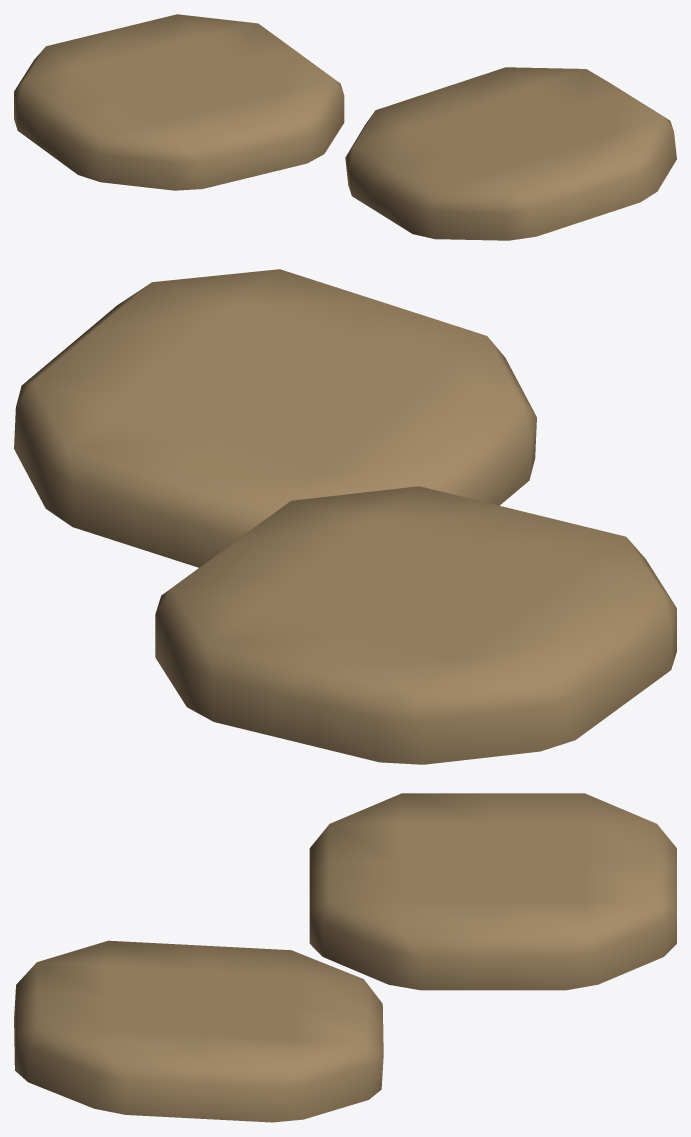
Rendered from tiles.glb.
3 renders of one model, top to bottom at view 1: azimuth 30°, elevation 25°; view 2: azimuth 150°, elevation 25°; view 3: azimuth 270°, elevation 25°, orthographic. The views are drawn at different scales.
Visible parts, largest first — view 1: Tiles, Tiles1; view 2: Tiles, Tiles1; view 3: Tiles, Tiles1.
Boxes of the visible parts, <box> form: Tiles: <box>14,14,344,190</box>; Tiles1: <box>345,67,676,240</box>; Tiles: <box>155,486,676,764</box>; Tiles1: <box>14,269,536,567</box>; Tiles: <box>309,793,676,990</box>; Tiles1: <box>14,940,383,1122</box>.
Bounding box in the file's own units: 3.61 × 0.5054 × 3.61.
Materials: 1 (1 with a texture image).
